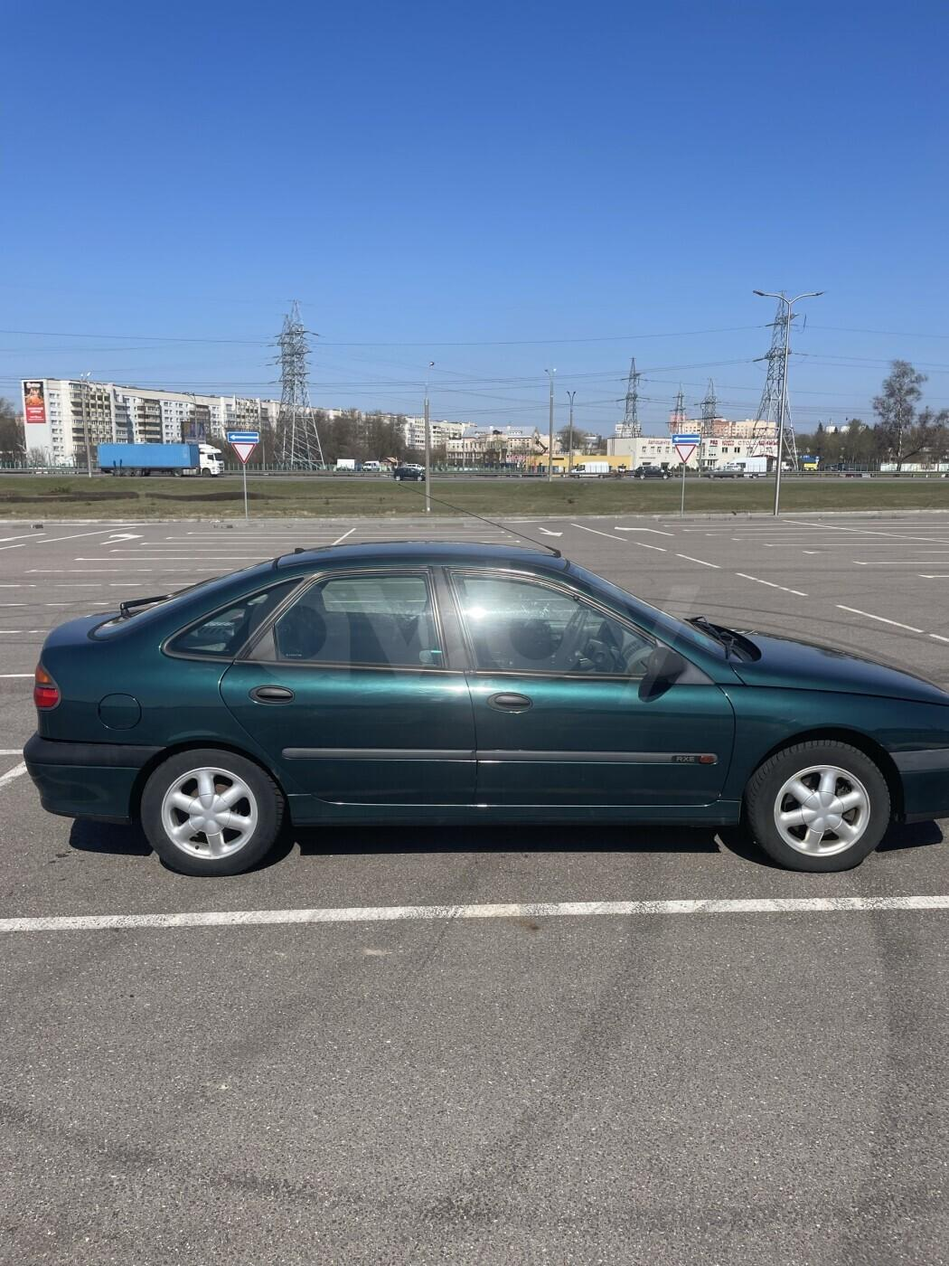Laguna_1998-2001: (25, 534, 949, 902)
